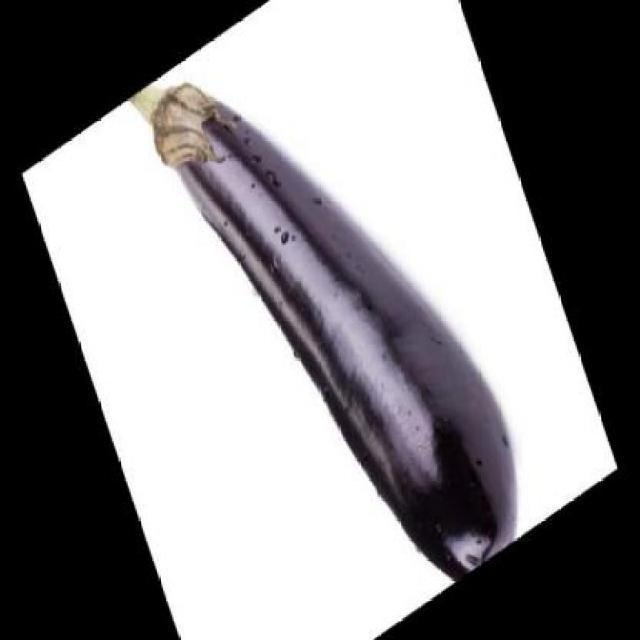eggplant: (122, 0, 539, 638)
